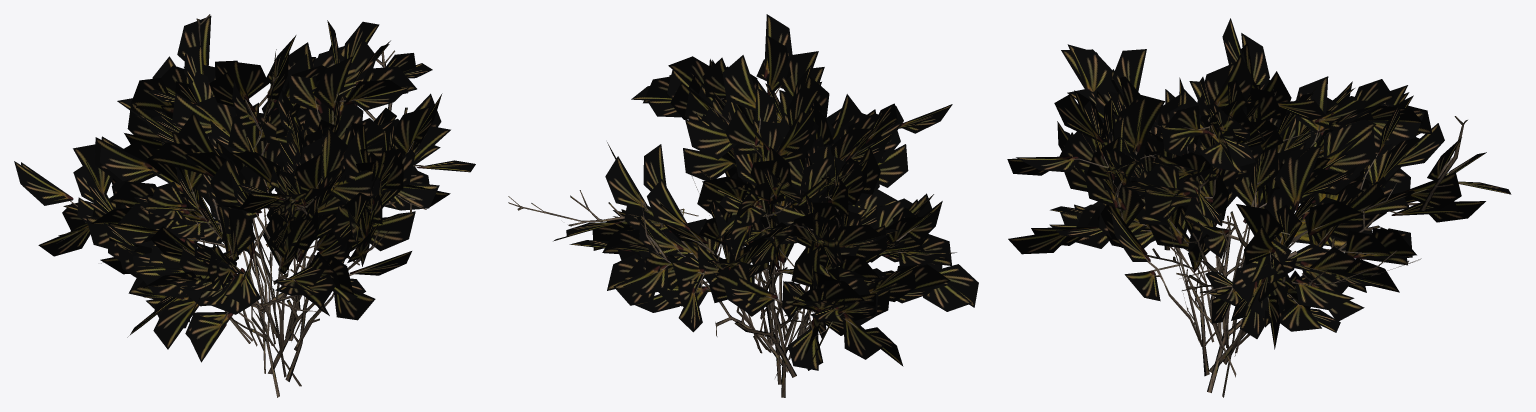
3 views of the same model, side by side, from view 1: azimuth 30°, elevation 25°; view 2: azimuth 150°, elevation 25°; view 3: azimuth 270°, elevation 25° (orthographic). The views are drawn at different scales.
Parts seen in each view (by area): view 1: wild_rooibos_bush_a.002, wild_rooibos_bush_a.001, wild_rooibos_bush_a; view 2: wild_rooibos_bush_a.002, wild_rooibos_bush_a.001, wild_rooibos_bush_a; view 3: wild_rooibos_bush_a.002, wild_rooibos_bush_a.001, wild_rooibos_bush_a.
Boxes of the visible parts, x1=… form: wild_rooibos_bush_a.002: x1=14, y1=16, x2=475, y2=362; wild_rooibos_bush_a.001: x1=85, y1=14, x2=426, y2=397; wild_rooibos_bush_a: x1=60, y1=61, x2=429, y2=355; wild_rooibos_bush_a.002: x1=553, y1=14, x2=978, y2=370; wild_rooibos_bush_a.001: x1=508, y1=108, x2=849, y2=397; wild_rooibos_bush_a: x1=619, y1=86, x2=918, y2=359; wild_rooibos_bush_a.002: x1=1007, y1=18, x2=1511, y2=349; wild_rooibos_bush_a.001: x1=1110, y1=86, x2=1467, y2=397; wild_rooibos_bush_a: x1=1070, y1=83, x2=1476, y2=352.
Size of the model in its own units: 0.7428 by 0.6359 by 0.7965.
3 materials, 3 textured.
